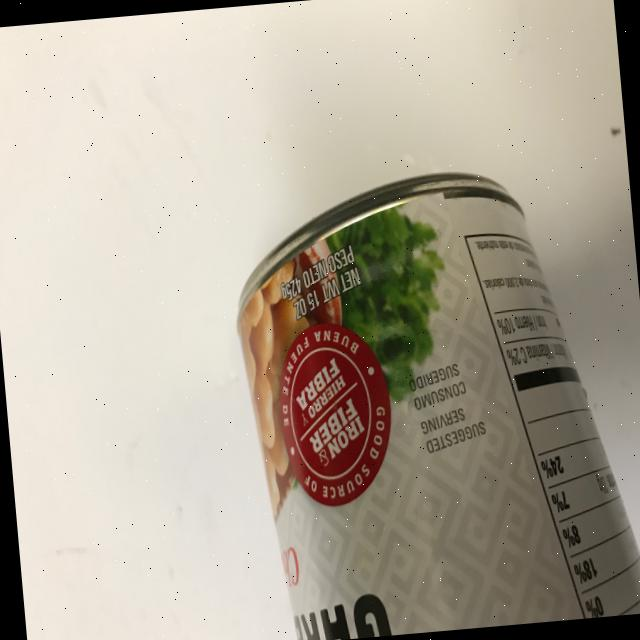metal: (224, 154, 640, 640)
